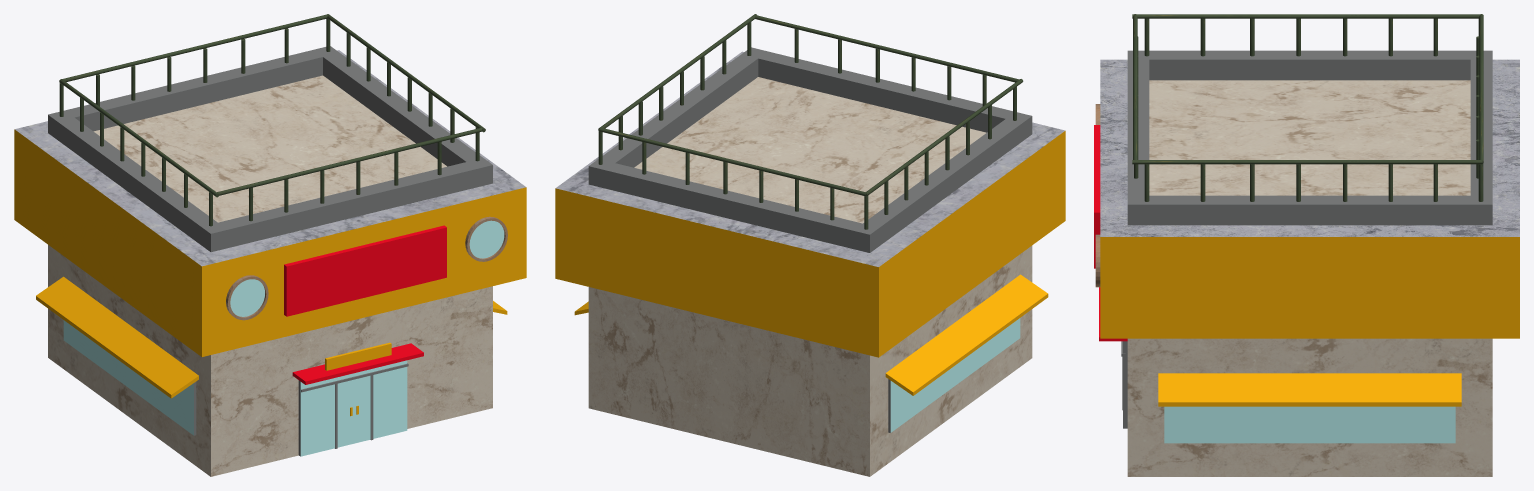
The model's file is Tienda3.fbx.
3 renders of one model, left to right at view 1: azimuth 30°, elevation 25°; view 2: azimuth 150°, elevation 25°; view 3: azimuth 270°, elevation 25°, orthographic. The views are drawn at different scales.
Visible parts, largest first — view 1: Cube.013; view 2: Cube.013; view 3: Cube.013.
Boxes of the visible parts, <box> form: Cube.013: <box>14,14,526,476</box>; Cube.013: <box>555,14,1065,476</box>; Cube.013: <box>1094,14,1519,476</box>.
Bounding box in the file's own units: 90.36 × 71.52 × 88.07.
